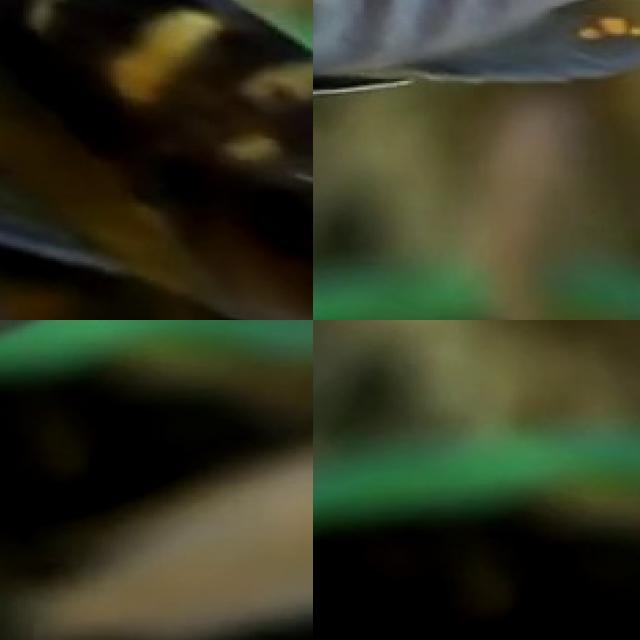fish: (0, 0, 313, 320), (313, 0, 640, 98)
